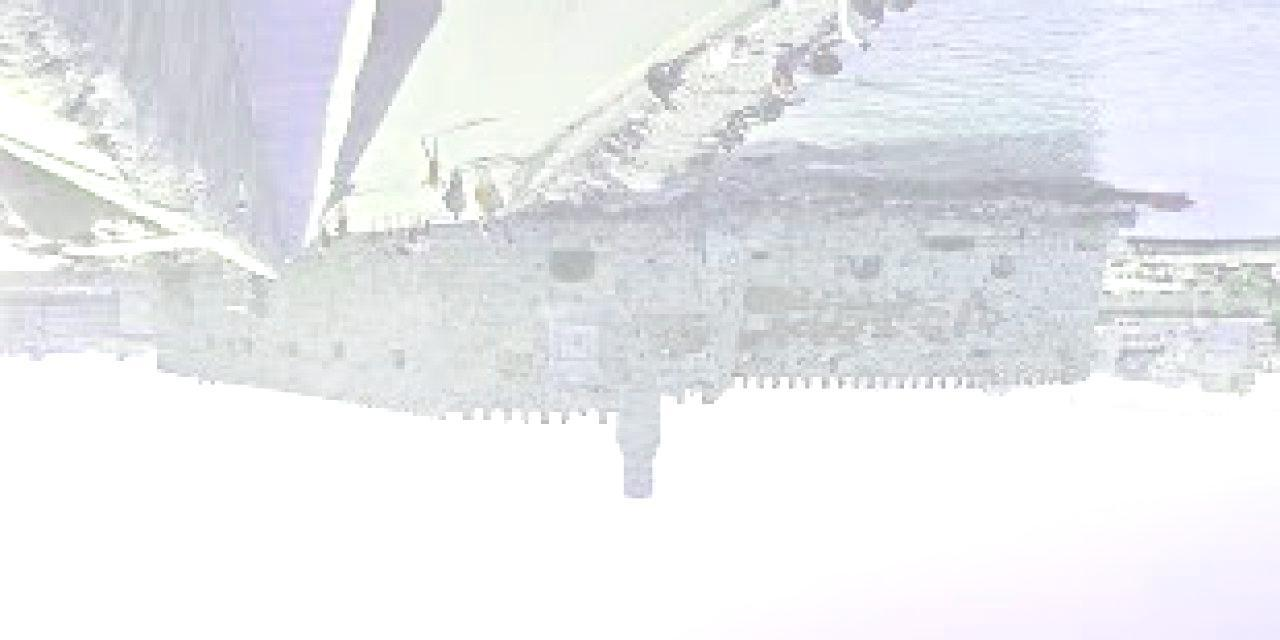Kules: (164, 197, 1140, 498)
